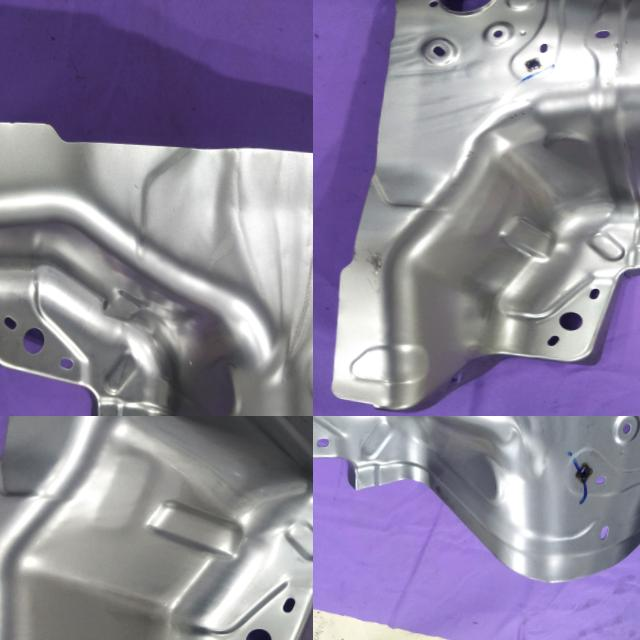Healthy: (326, 0, 640, 416), (0, 416, 313, 640), (313, 416, 640, 594)
